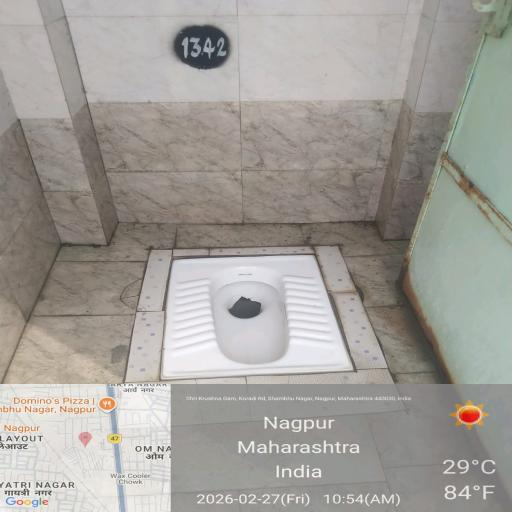clean_floor: (6, 6, 436, 228)
clean_indian: (168, 252, 336, 372)
partial_dirty_floor: (332, 242, 463, 383), (0, 246, 126, 380), (109, 216, 383, 250)
